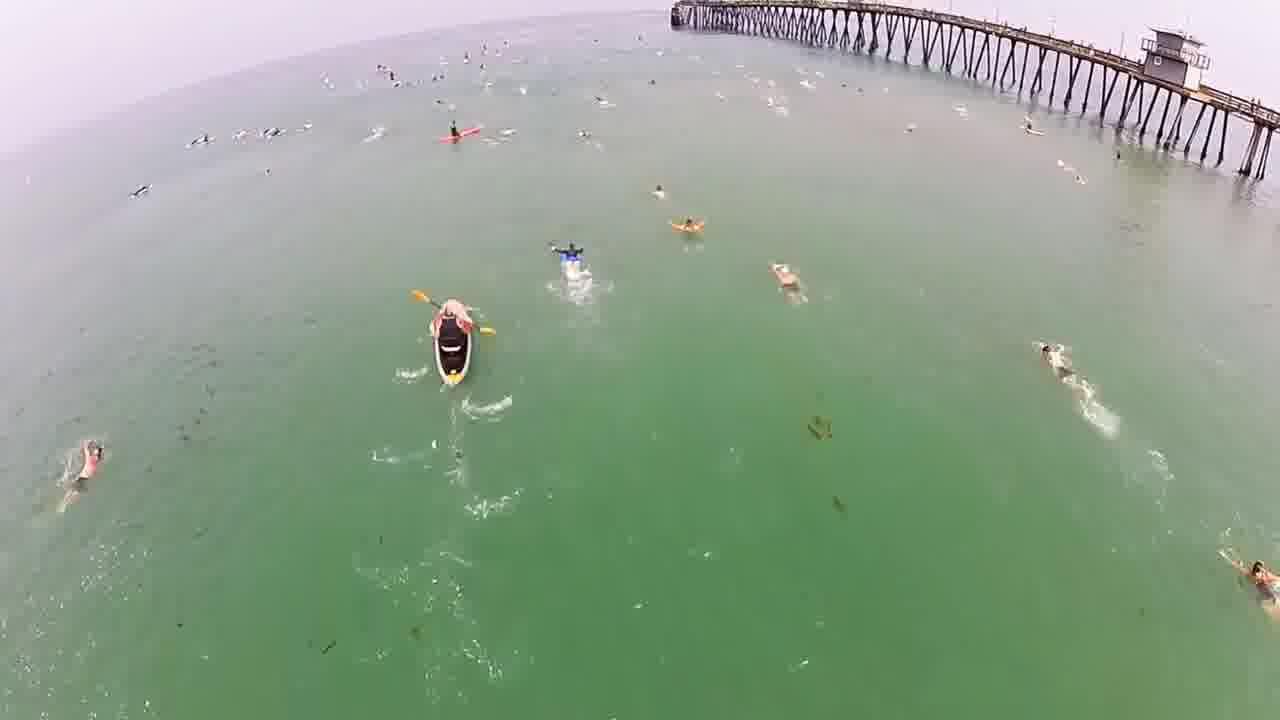human: (1029, 325, 1106, 405), (1217, 534, 1280, 611), (763, 248, 834, 305)
